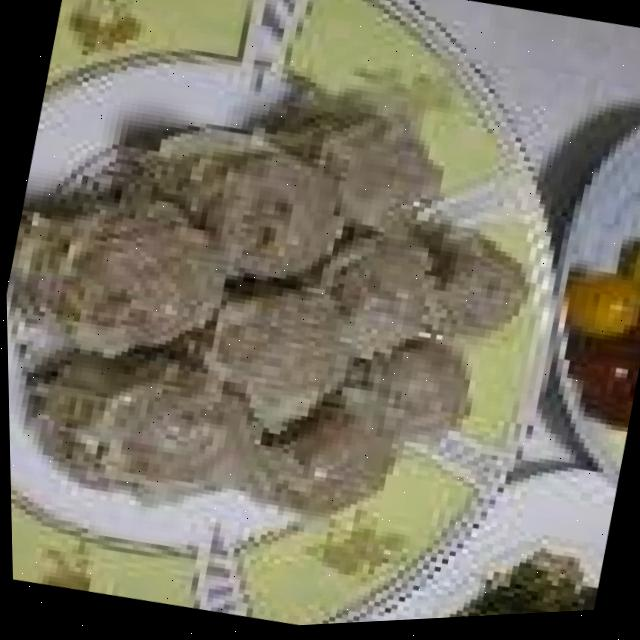带馅早点: (1, 12, 550, 575)
